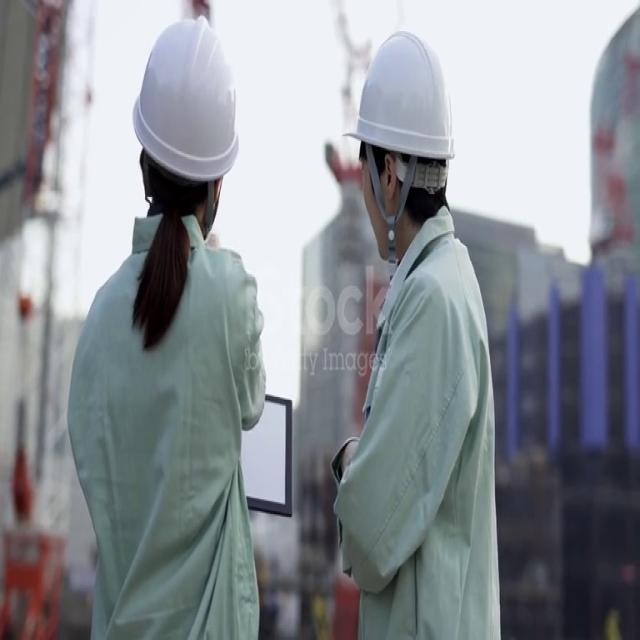capacete: (120, 8, 248, 194), (330, 15, 462, 175)
